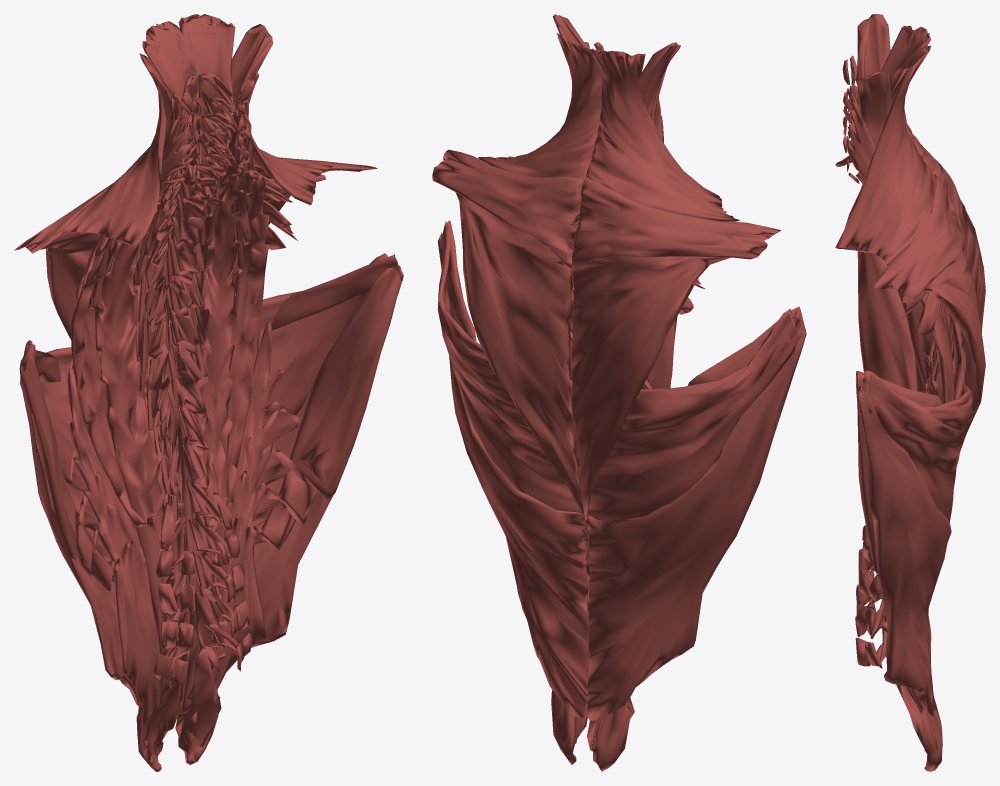
The model's file is back.glb.
The picture shows the model from 3 angles, left to right: view 1: azimuth 30°, elevation 25°; view 2: azimuth 150°, elevation 25°; view 3: azimuth 270°, elevation 25°; orthographic projection. The views are drawn at different scales.
Visible parts, largest first — view 1: FMA13359, FMA13358, FMA22751, FMA22753, FMA22740, FMA22741, FMA23083, FMA22879, FMA33586, FMA22743, FMA22742, FMA22878 (+23 smaller); view 2: FMA13358, FMA13359, FMA33583, FMA33581, FMA33586, FMA33584, FMA33585, FMA33587, FMA22740, FMA22728, FMA22741, FMA22742; view 3: FMA13359, FMA33587, FMA13358, FMA33585, FMA33583, FMA22729, FMA76775, FMA22728, FMA33581, FMA32541, FMA22743, FMA22741 (+14 smaller).
Part boxes in pixels (left/top/right/bottom): FMA13359: left=166, top=253, right=403, bottom=647; FMA13358: left=19, top=340, right=174, bottom=705; FMA22751: left=95, top=196, right=180, bottom=739; FMA22753: left=175, top=166, right=254, bottom=737; FMA22740: left=67, top=366, right=168, bottom=771; FMA22741: left=178, top=318, right=286, bottom=764; FMA23083: left=147, top=164, right=224, bottom=497; FMA22879: left=169, top=97, right=227, bottom=747; FMA33586: left=61, top=21, right=199, bottom=247; FMA22743: left=226, top=174, right=269, bottom=504; FMA22742: left=71, top=201, right=160, bottom=527; FMA22878: left=142, top=113, right=197, bottom=768; FMA13358: left=586, top=306, right=806, bottom=720; FMA13359: left=437, top=220, right=588, bottom=717; FMA33583: left=455, top=192, right=586, bottom=519; FMA33581: left=571, top=255, right=730, bottom=520; FMA33586: left=586, top=49, right=739, bottom=221; FMA33584: left=571, top=176, right=781, bottom=269; FMA33585: left=432, top=149, right=583, bottom=269; FMA33587: left=478, top=36, right=601, bottom=180; FMA22740: left=593, top=688, right=634, bottom=771; FMA22728: left=637, top=42, right=680, bottom=114; FMA22741: left=551, top=690, right=576, bottom=764; FMA22742: left=641, top=317, right=677, bottom=389; FMA13359: left=855, top=370, right=973, bottom=716; FMA33587: left=835, top=45, right=936, bottom=264; FMA13358: left=857, top=251, right=954, bottom=711; FMA33585: left=874, top=174, right=964, bottom=300; FMA33583: left=923, top=248, right=985, bottom=441; FMA22729: left=858, top=71, right=892, bottom=146; FMA76775: left=855, top=525, right=872, bottom=666; FMA22728: left=857, top=14, right=890, bottom=76; FMA33581: left=961, top=201, right=985, bottom=330; FMA32541: left=846, top=101, right=875, bottom=178; FMA22743: left=920, top=291, right=953, bottom=403; FMA22741: left=908, top=687, right=942, bottom=771.
Bounding box in the file's own units: 0.3579 × 0.6692 × 0.1264.
